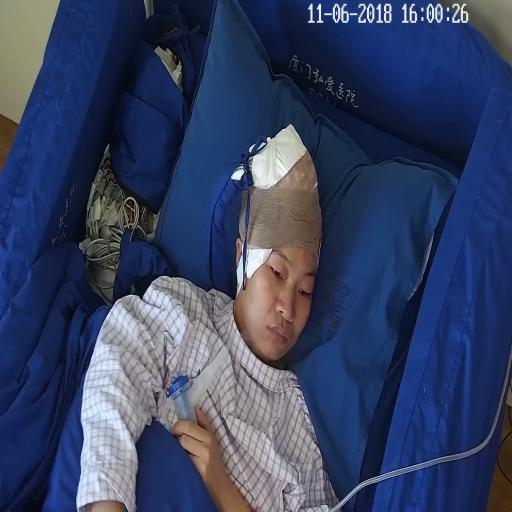Seizure: (227, 125, 322, 365), (228, 211, 323, 371)
